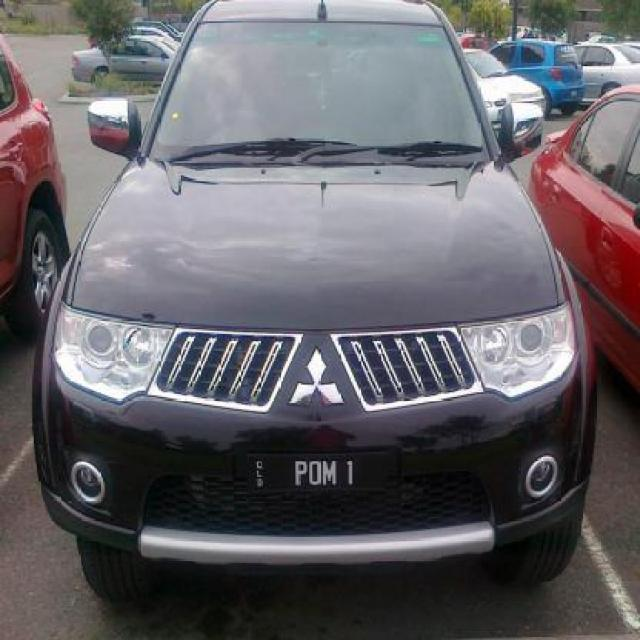License-Plates: (246, 453, 399, 493)
